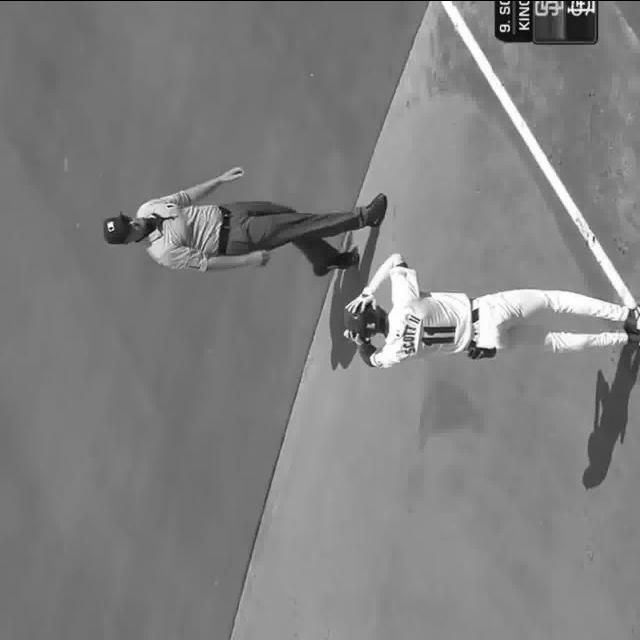shoe: (314, 247, 366, 271), (362, 194, 389, 228), (629, 300, 640, 327), (624, 329, 638, 346)
